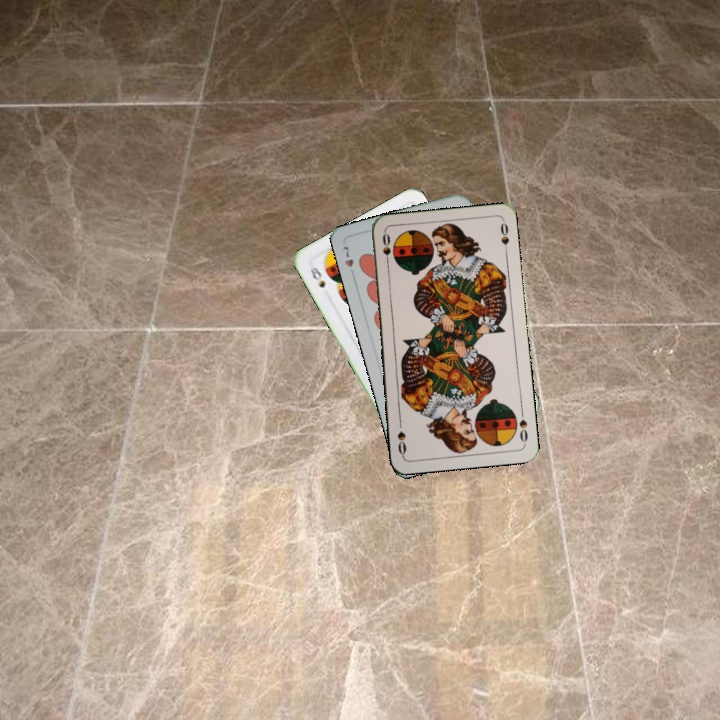H7: (338, 242, 357, 280)
S8: (305, 263, 328, 291)
SO: (378, 229, 393, 270), (515, 406, 530, 446)
